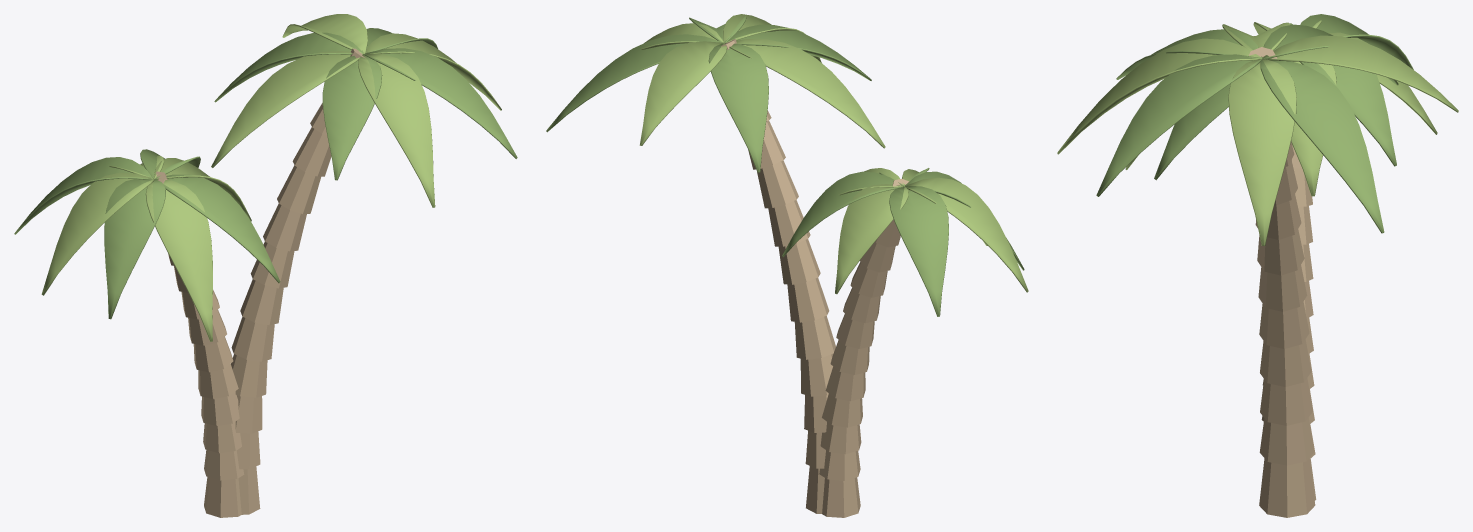
The model's file is Palm_Pair_1.gltf.
3 renders of one model, left to right at view 1: azimuth 30°, elevation 25°; view 2: azimuth 150°, elevation 25°; view 3: azimuth 270°, elevation 25°, orthographic. The views are drawn at different scales.
Visible parts, largest first — view 1: Palm_Pair_1; view 2: Palm_Pair_1; view 3: Palm_Pair_1.
Part boxes in pixels (<box>): Palm_Pair_1: <box>14,14,517,517</box>; Palm_Pair_1: <box>546,14,1028,517</box>; Palm_Pair_1: <box>1057,14,1458,517</box>.
Size of the model in its own units: 4.73 by 4.39 by 3.04.
